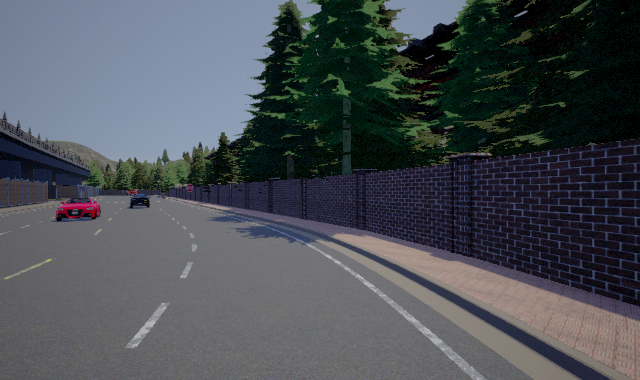traffic_sign: (186, 184, 194, 192)
vehicle: (55, 198, 101, 221), (130, 192, 150, 208)
